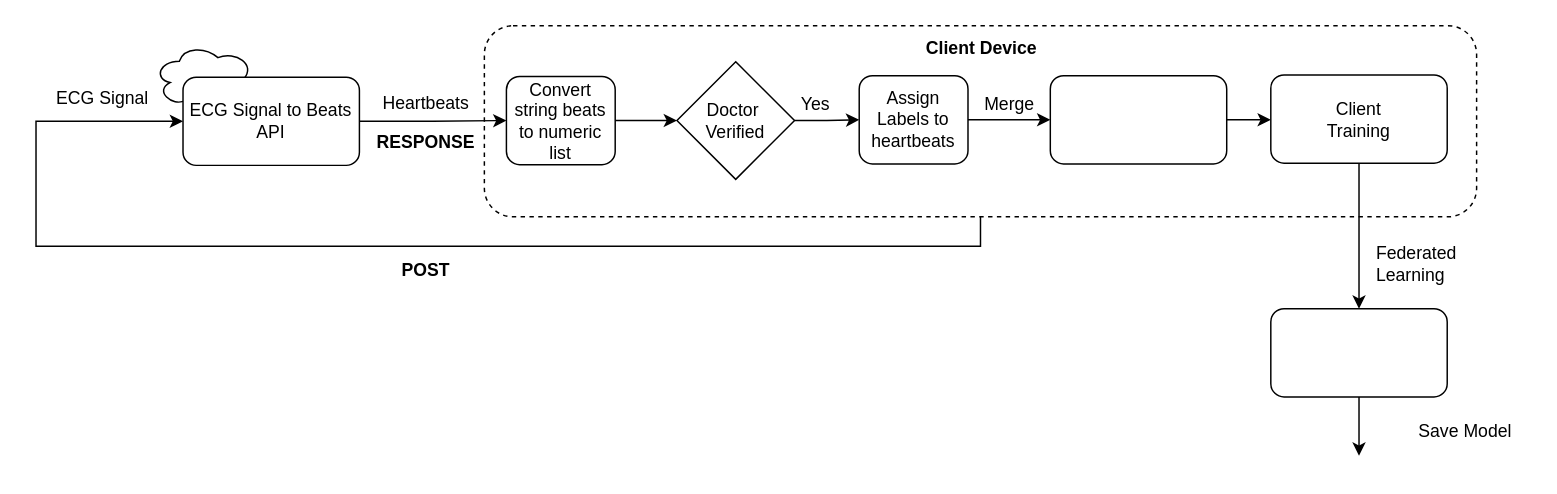
This 1557x494 diagram has some shape labels left out. The shapes that lost their labels are listed below. From the top down, each one's centre as x and y in pixels, then its label:
At (1138,119): "Local Dataset".
At (1358,352): "Server".
